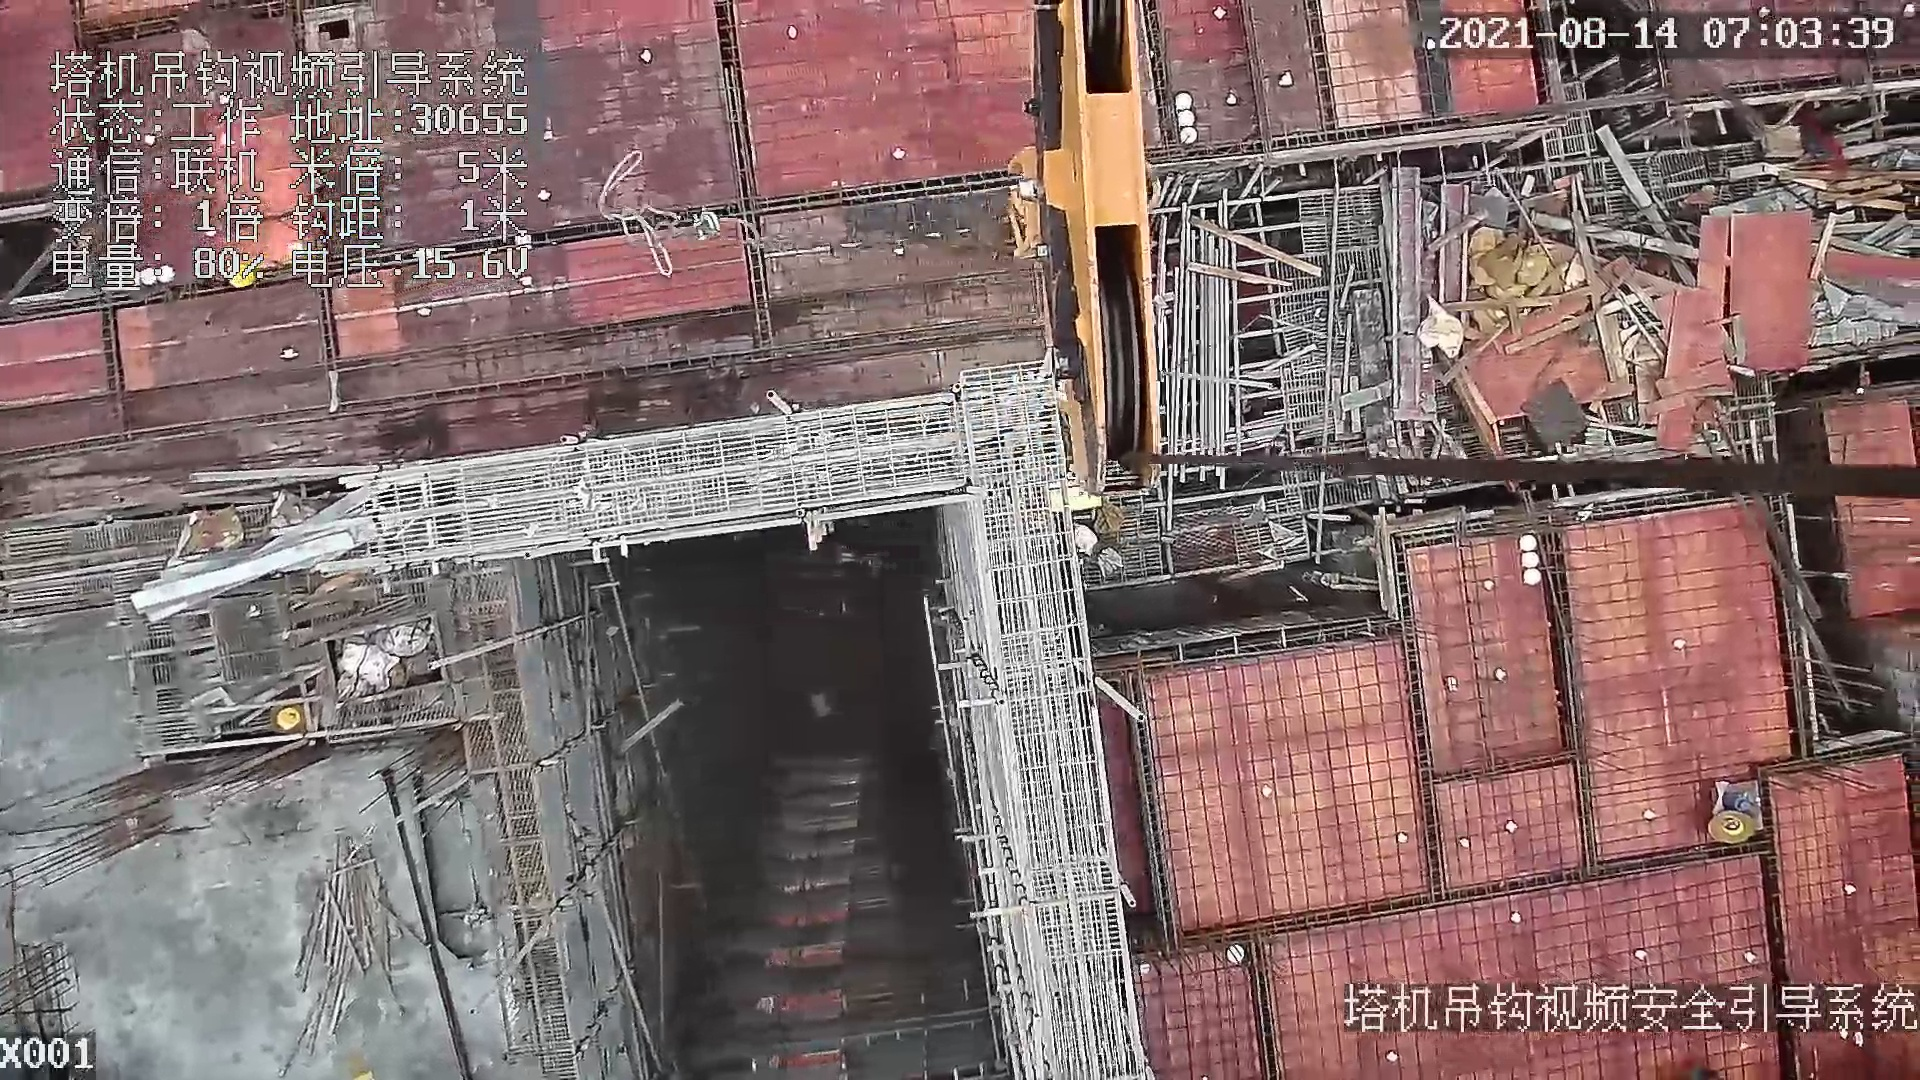hook: (996, 1, 1164, 496)
